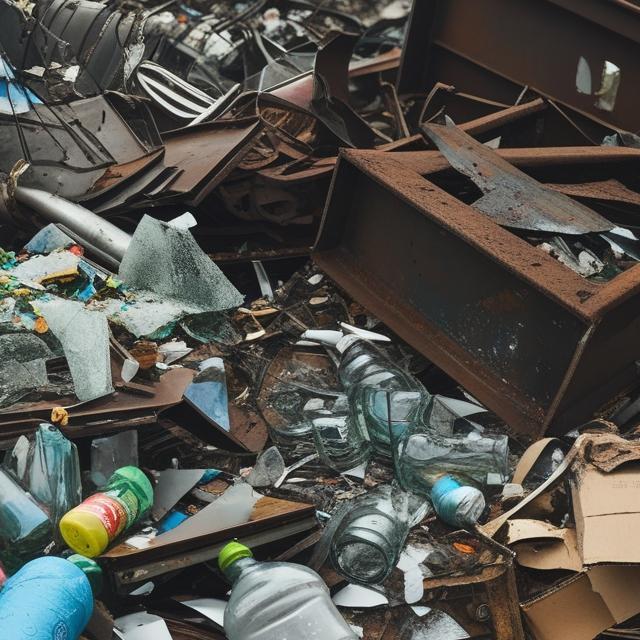plastic: (208, 548, 403, 640)
